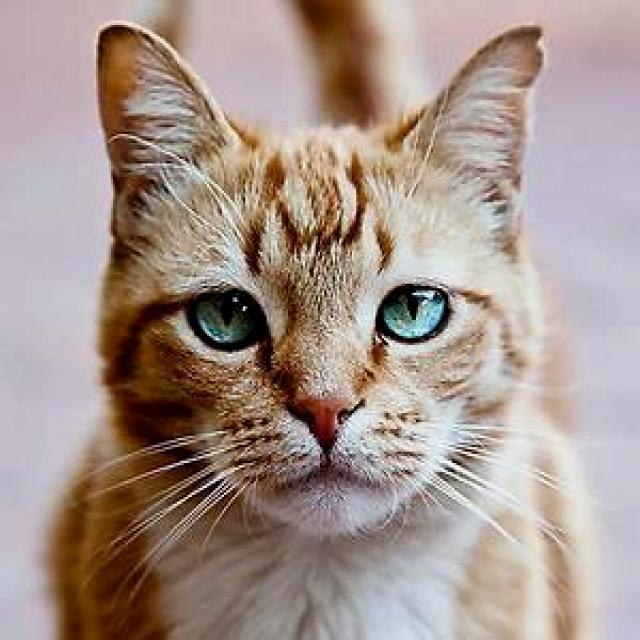KEDI: (36, 19, 587, 640)
